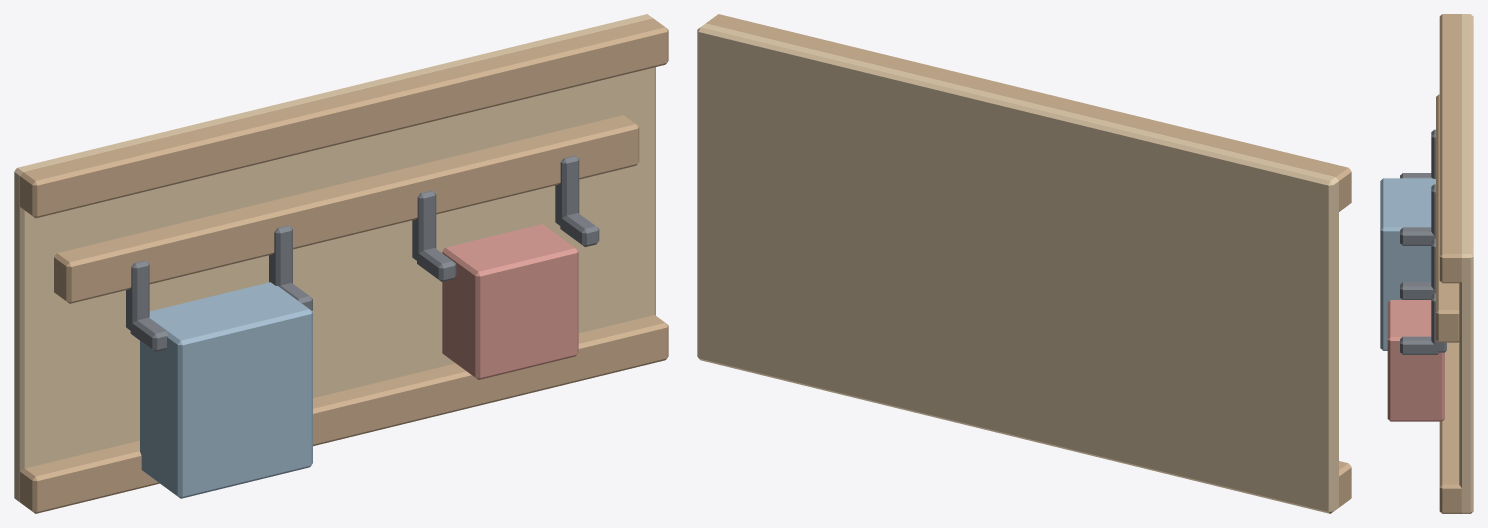
File: Hooks_2x1.glb
3 views of the same model, side by side, from view 1: azimuth 30°, elevation 25°; view 2: azimuth 150°, elevation 25°; view 3: azimuth 270°, elevation 25° (orthographic). The views are drawn at different scales.
Parts seen in each view (by area): view 1: SpaceSaver_WallSys_Hooks_2x1; view 2: SpaceSaver_WallSys_Hooks_2x1; view 3: SpaceSaver_WallSys_Hooks_2x1.
Boxes of the visible parts, x1=… form: SpaceSaver_WallSys_Hooks_2x1: x1=14, y1=14, x2=668, y2=513; SpaceSaver_WallSys_Hooks_2x1: x1=697, y1=14, x2=1351, y2=513; SpaceSaver_WallSys_Hooks_2x1: x1=1380, y1=14, x2=1473, y2=513.
Bounding box in the file's own units: 0.8 × 0.4 × 0.13.
